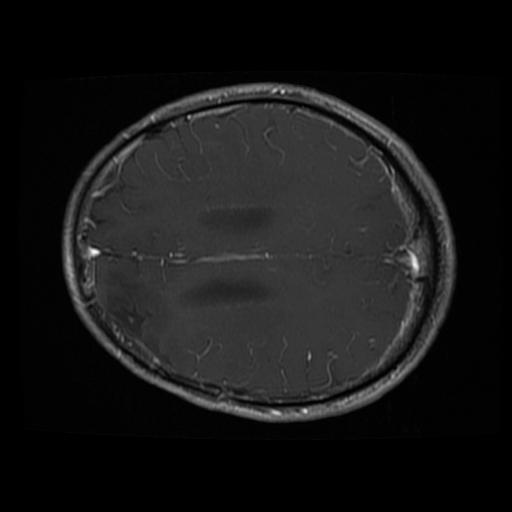glioma: (105, 273, 165, 353)
